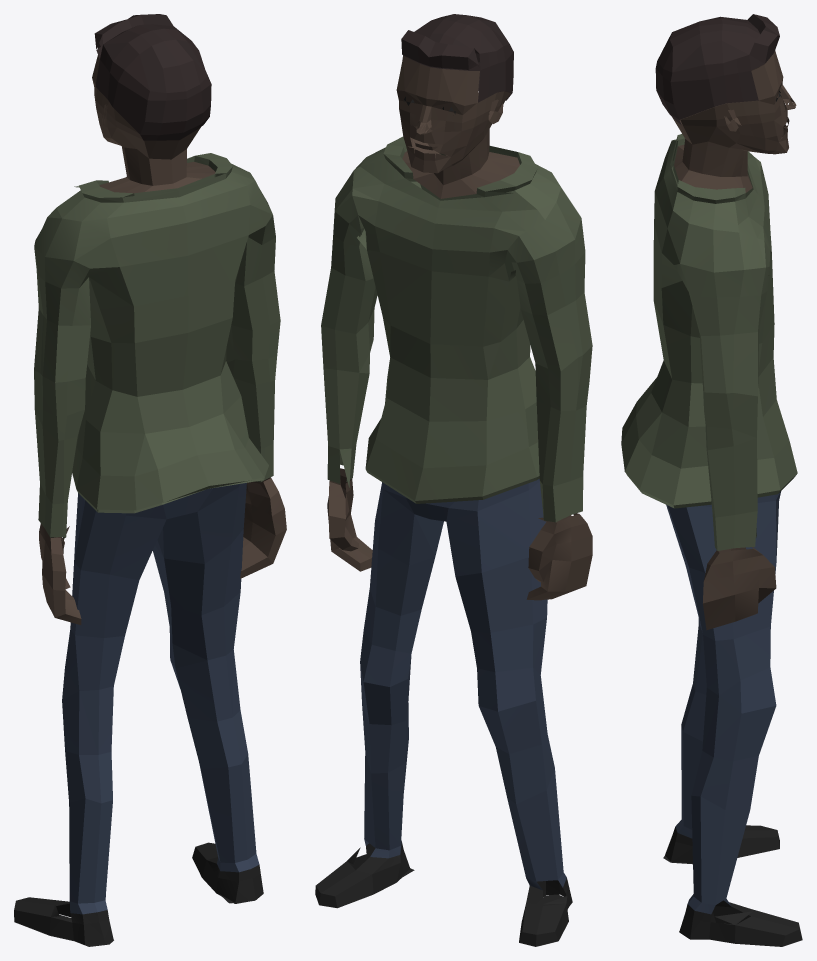
File: person_1_idle.fbx
The picture shows the model from 3 angles, left to right: view 1: azimuth 30°, elevation 25°; view 2: azimuth 150°, elevation 25°; view 3: azimuth 270°, elevation 25°; orthographic projection.
Visible parts, largest first — view 1: BaseHuman; view 2: BaseHuman; view 3: BaseHuman.
Part boxes in pixels (bbox=[...]): BaseHuman: bbox=[14, 14, 286, 946]; BaseHuman: bbox=[315, 14, 592, 946]; BaseHuman: bbox=[621, 14, 802, 946].
Size of the model in its own units: 0.2925 by 0.9985 by 0.1884.
